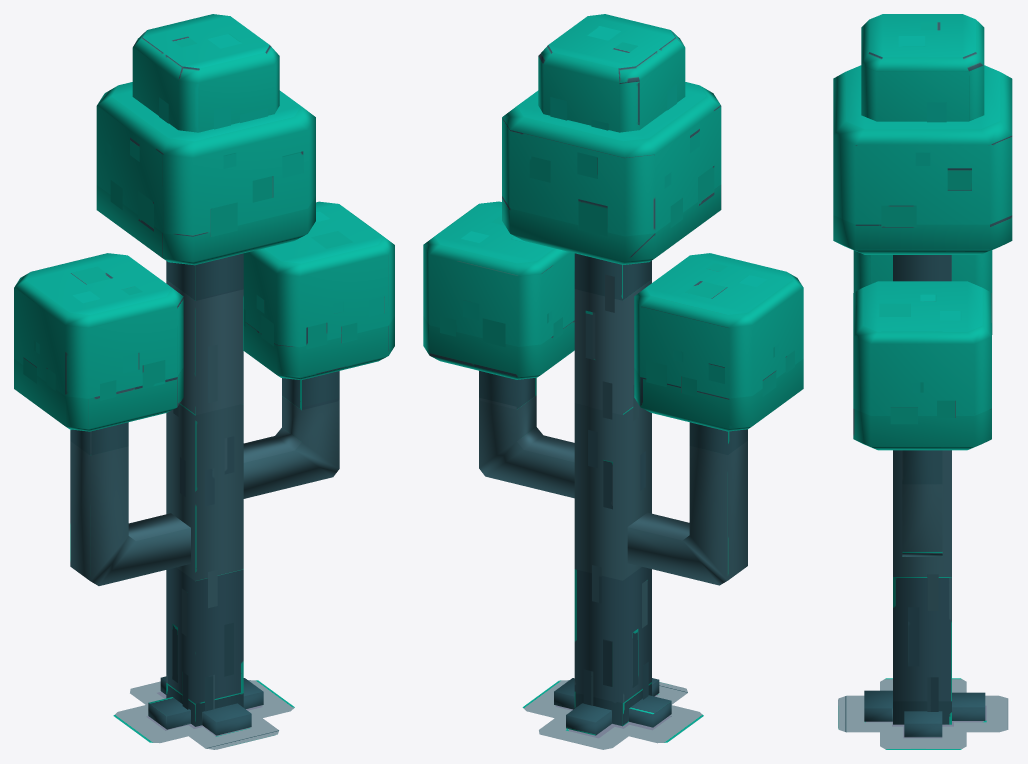
Rendered from B_mountain2_tree02.fbx.
3 renders of one model, left to right at view 1: azimuth 30°, elevation 25°; view 2: azimuth 150°, elevation 25°; view 3: azimuth 270°, elevation 25°, orthographic.
Visible parts, largest first — view 1: model 1, model; view 2: model 1, model; view 3: model 1, model.
Part boxes in pixels (bbox=[...]): model 1: bbox=[14, 14, 394, 749]; model: bbox=[113, 680, 294, 749]; model 1: bbox=[423, 14, 803, 740]; model: bbox=[522, 680, 703, 749]; model 1: bbox=[833, 14, 1012, 737]; model: bbox=[838, 678, 1008, 749].
Bounding box in the file's own units: 5.69 × 11.05 × 2.67.
Materials: 1 (1 with a texture image).
